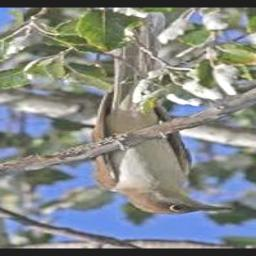Cuckoo: (91, 20, 232, 214)
